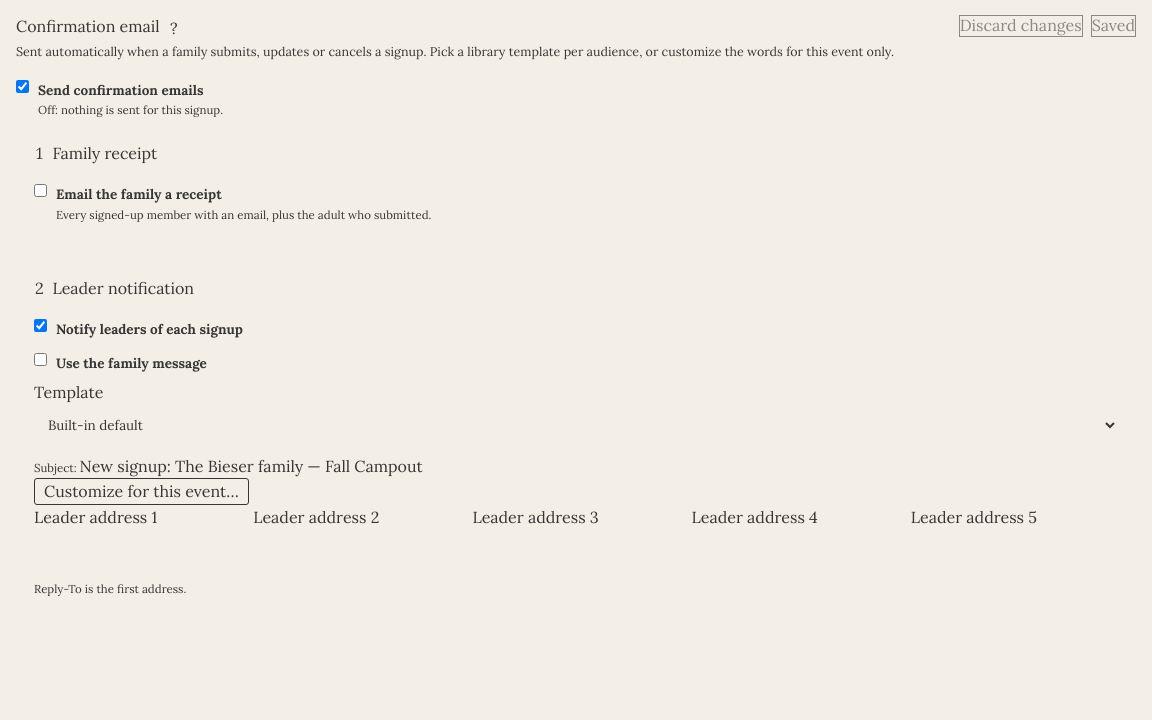
Scenario: ConfirmationPanel › ConfirmationBlock_LeaderPanel_HidesPicker_WhenUseTheFamilyMessage
Expected: the dropdown labelled "Template" is shown, top-left (34, 408), bottom-right (1118, 442)
Step 1. Click the checkbox labelled "Use the family message" → coordinates (40, 360), box top-left (34, 353), bottom-right (47, 366)
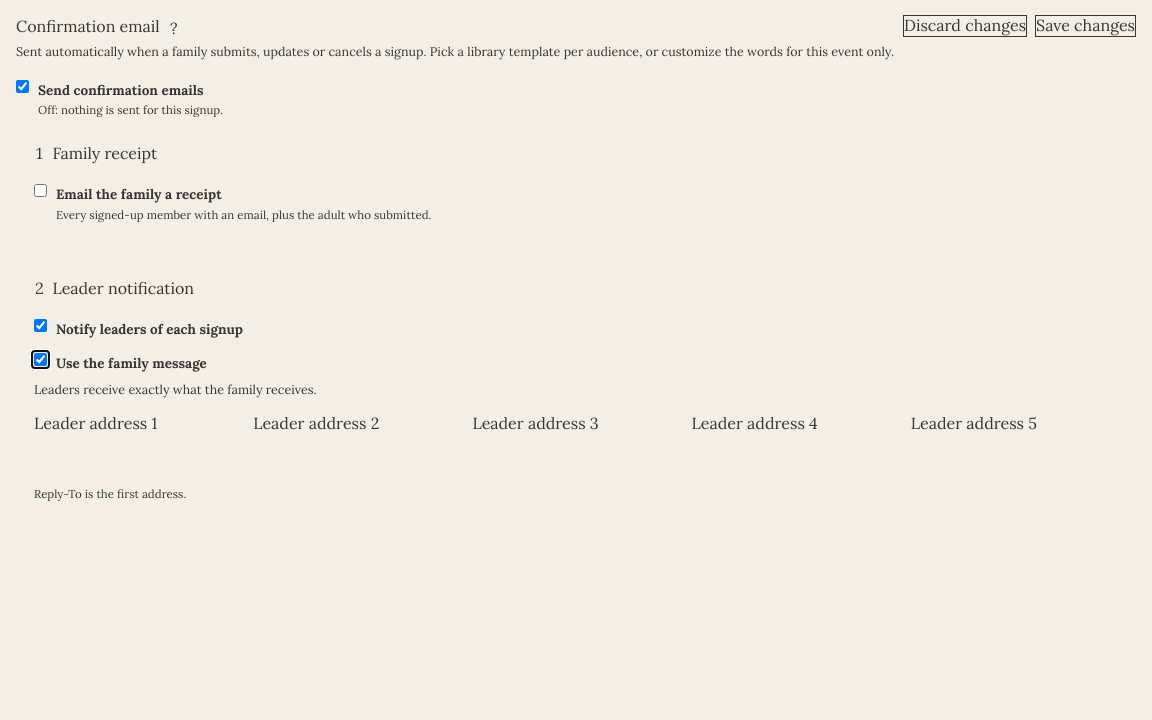
Expected: the field labelled "Template" is not shown
Result: the text "Leaders receive exactly what the family receives." is shown at top-left (34, 381), bottom-right (317, 397)
